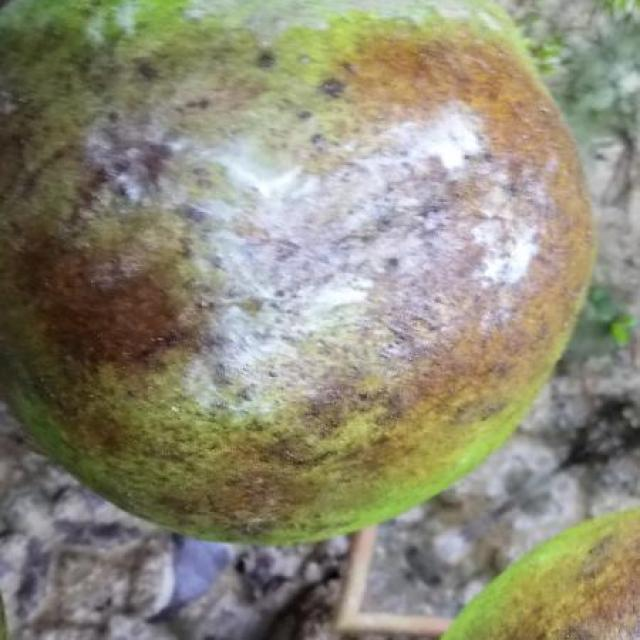Phytopthora: (0, 0, 592, 543), (442, 510, 640, 639)
